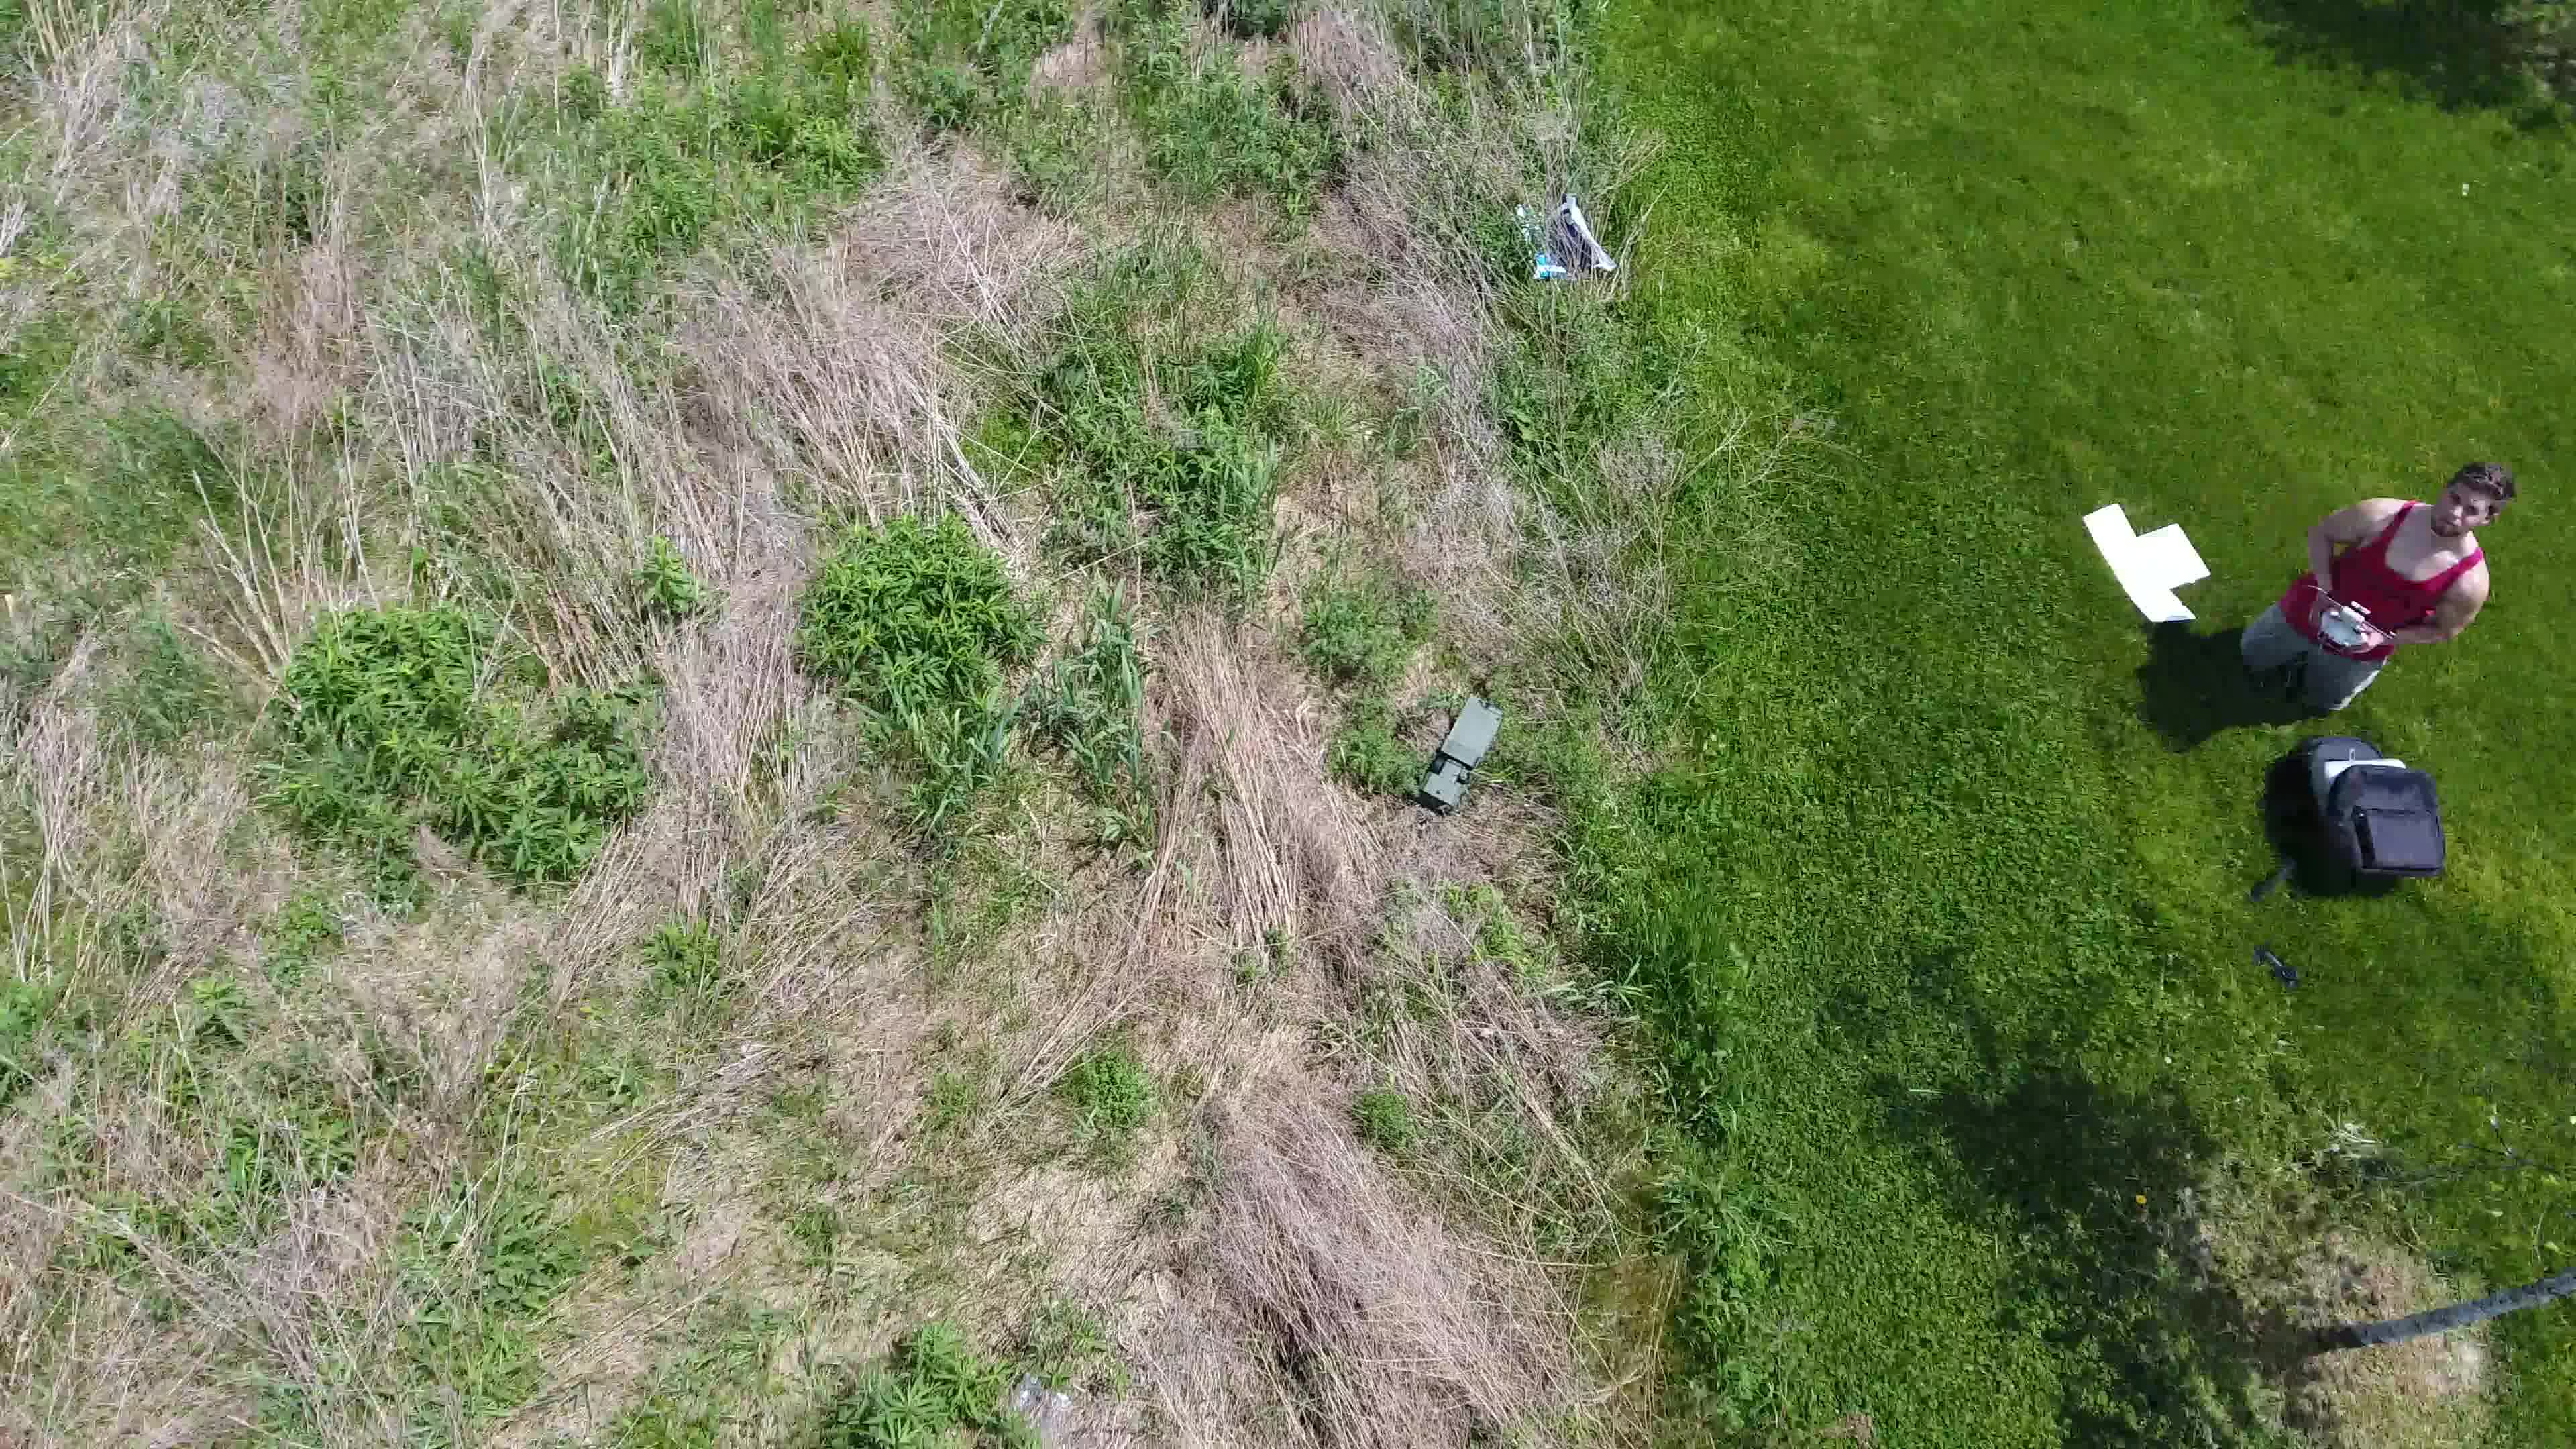transporter9: (1410, 692, 1506, 812)
